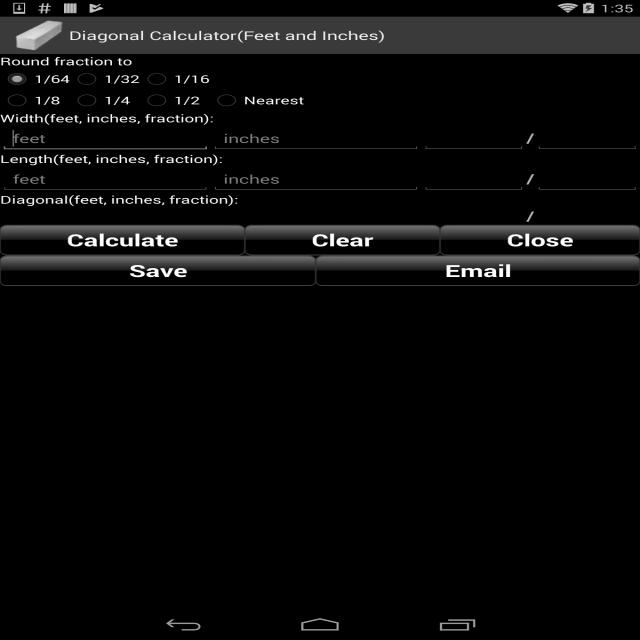Button: (0, 255, 316, 286), (315, 255, 640, 285), (0, 225, 245, 255), (440, 225, 640, 255), (245, 225, 440, 255)
EditText: (0, 125, 211, 152), (211, 125, 421, 152), (0, 166, 211, 192), (211, 166, 421, 192), (0, 208, 211, 224), (211, 208, 421, 224), (534, 125, 640, 152), (422, 125, 526, 152), (534, 166, 640, 192), (422, 166, 526, 192), (534, 208, 640, 224), (422, 208, 526, 224)
ImageView: (14, 19, 64, 52)
RadioButton: (210, 90, 304, 111), (0, 68, 70, 90), (70, 68, 140, 90), (140, 68, 210, 90), (0, 90, 70, 111), (70, 90, 140, 111), (140, 90, 210, 111)
TextView: (0, 192, 640, 207), (0, 111, 640, 125), (0, 152, 640, 166), (68, 27, 386, 43), (0, 53, 132, 68), (526, 128, 534, 146), (526, 170, 534, 188), (526, 207, 534, 224)
